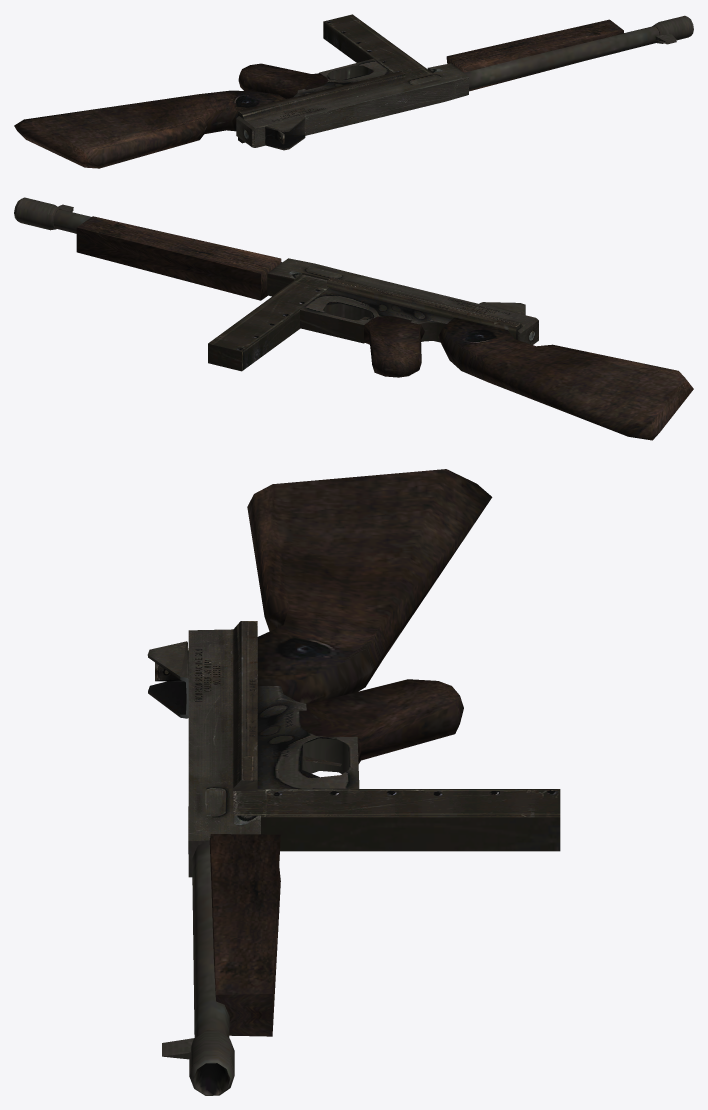
The model's file is weapon_usa_thompson_smg_LOD21.obj.
3 views of the same model, one above another, from view 1: azimuth 30°, elevation 25°; view 2: azimuth 150°, elevation 25°; view 3: azimuth 270°, elevation 25° (orthographic). The views are drawn at different scales.
Parts seen in each view (by area): view 1: TomGroup_0, TomGroup_1; view 2: TomGroup_1, TomGroup_0; view 3: TomGroup_1, TomGroup_0.
Boxes of the visible parts, x1,y1,x2,y2 form: TomGroup_0: (236, 14, 693, 150); TomGroup_1: (14, 19, 623, 168); TomGroup_1: (76, 216, 693, 440); TomGroup_0: (14, 197, 538, 371); TomGroup_1: (209, 469, 492, 1036); TomGroup_0: (147, 621, 560, 1095).
Size of the model in its own units: 90.67 by 4.16 by 26.45.
1 material, 1 textured.
